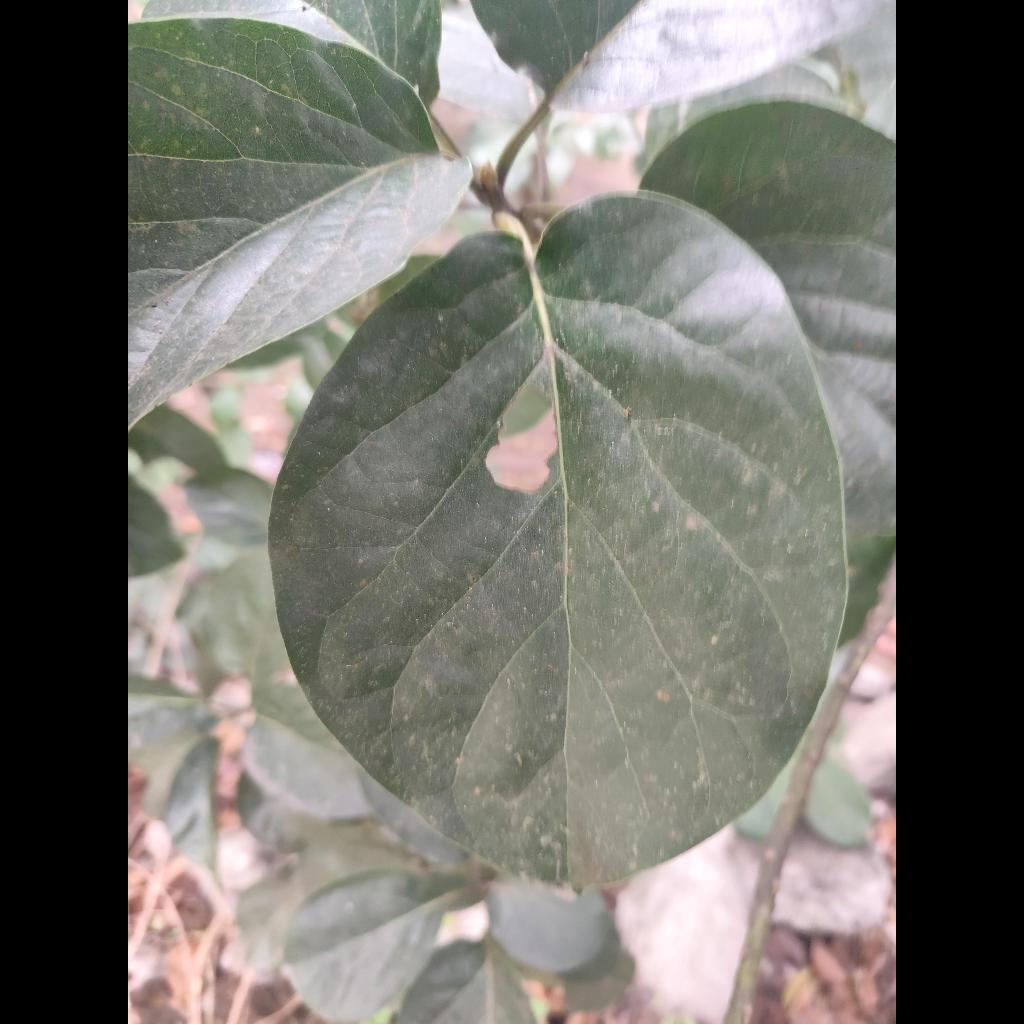Pest Infested: (270, 192, 846, 888)
